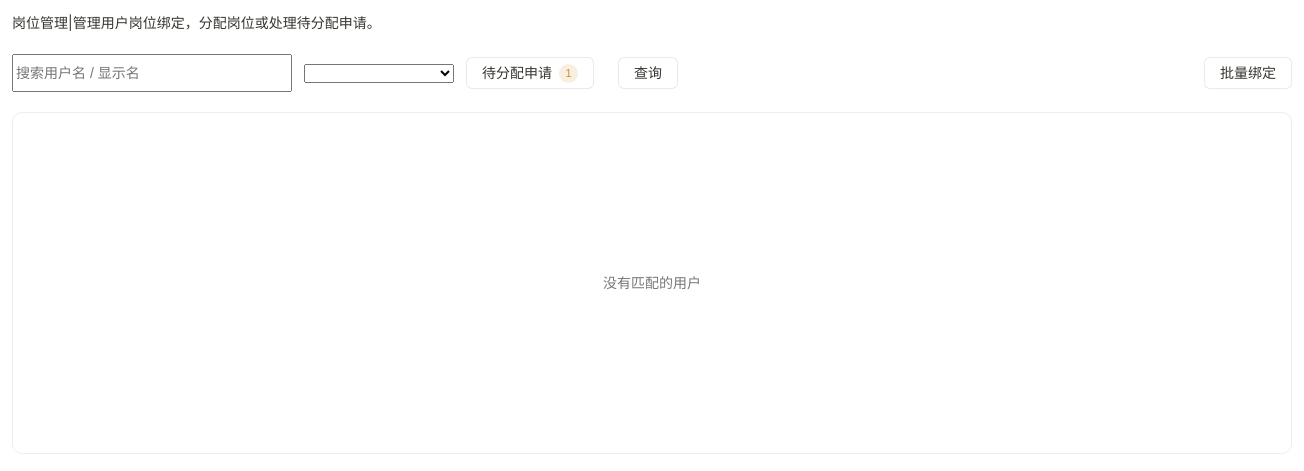
Test: AdminPositionAssignments —— 单页面（2026-09-15 合并改版） › 待分配筛选激活时空态文案改为「暂无待分配申请」
Click the button "待分配申请 1": [530, 73] box 466,57 -> 594,89
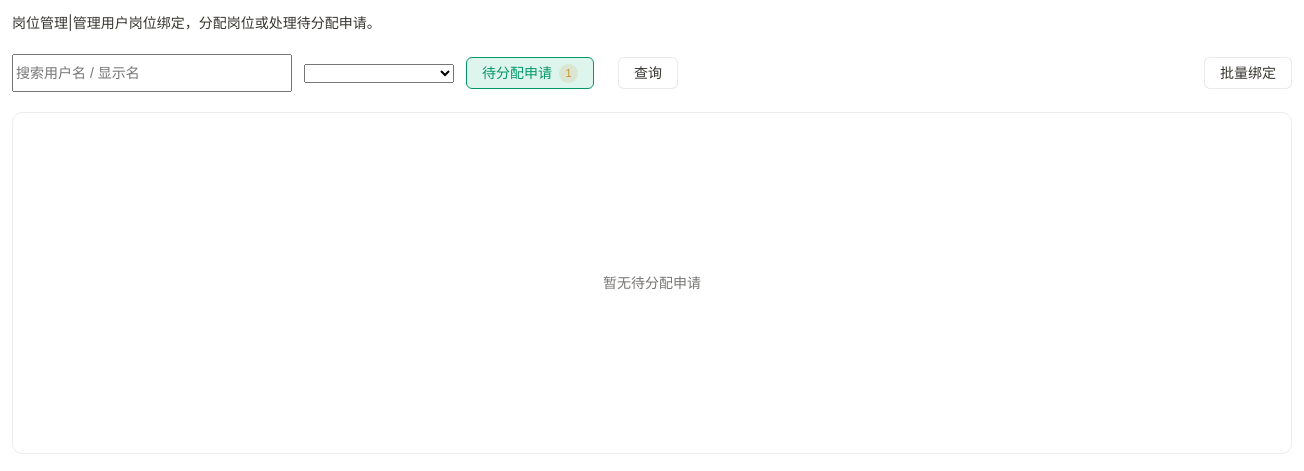
Result: the element with class "ls-empty" reads "暂无待分配申请" at 603,274 -> 701,291
